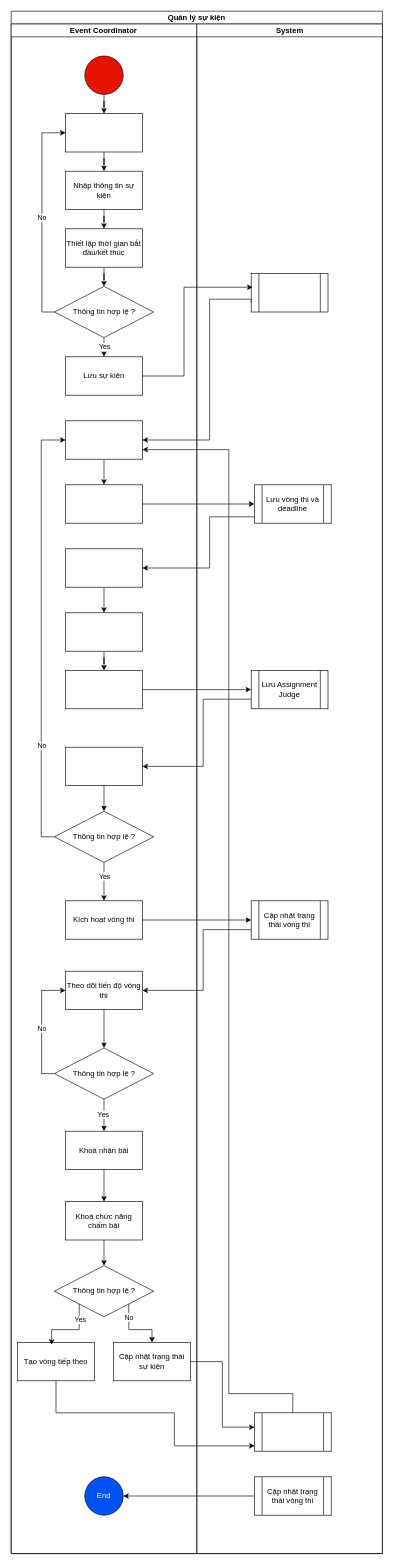
The diagram is 394 pixels wide and 1565 high, and some of its shapes have lost their labels. Here are the shapes that lost their labels. From the top down, the centre of each, then its label:
At point 103,74: "Start".
At point 103,132: "Tạo sự kiện".
At point 289,292: "Lưu dữ liệu sự kiện".
At point 103,439: "Tạo vòng thi".
At point 103,503: "Thiết lập thông tin và deadline vòng thi".
At point 103,567: "Cấu hình tiêu chí và đánh giá".
At point 103,631: "Thiết lập trọng số tiêu chí".
At point 103,689: "Phân công giám khảo".
At point 103,766: "Kiểm tra cấu hình vòng thi".
At point 292,1431: "Lưu dữ liệu vòng thi".
